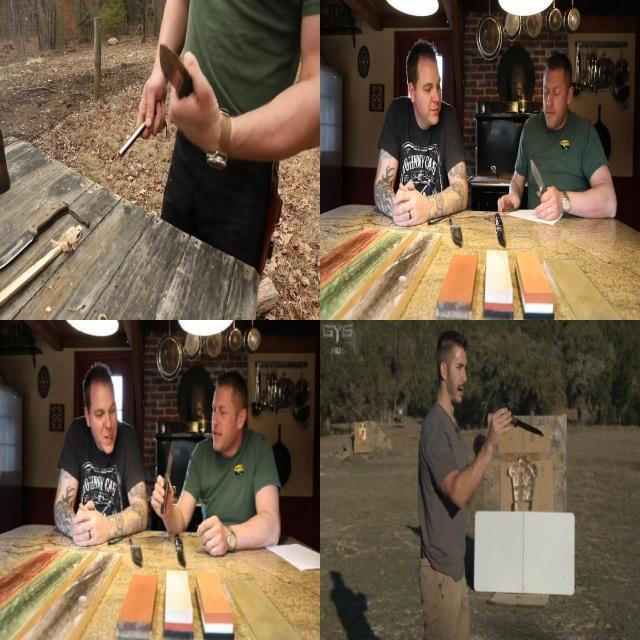-: (156, 34, 206, 131), (526, 151, 559, 218), (152, 430, 176, 511), (494, 402, 546, 439)
